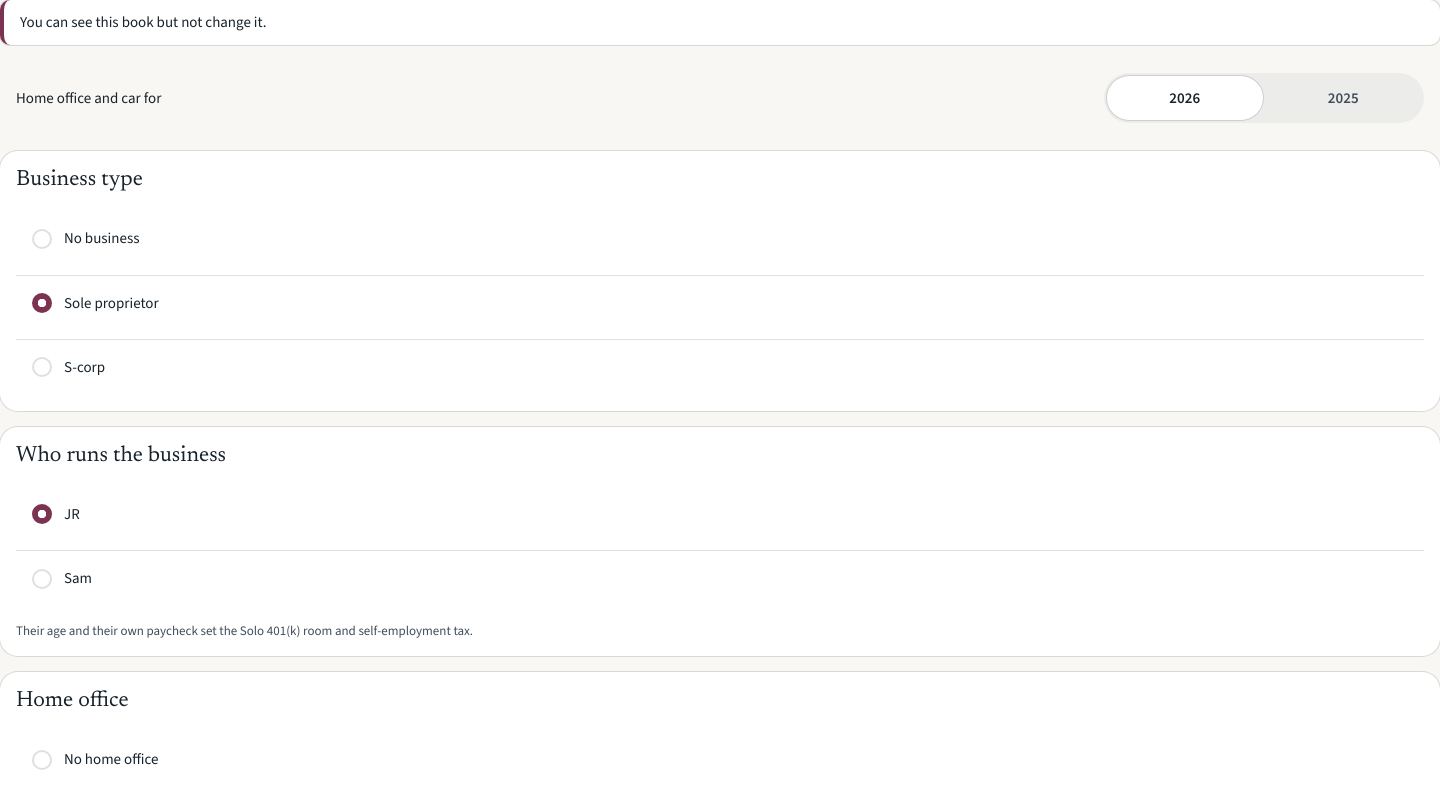
Test case: Settings, Business › lets a viewer look at last year, still read-only (final review N5)
The width and height of the screenshot is (1440, 797).
Step 1. Click the radio button labelled "2025" → (1343,98), box [1266,76,1421,120]
(page scrolled)
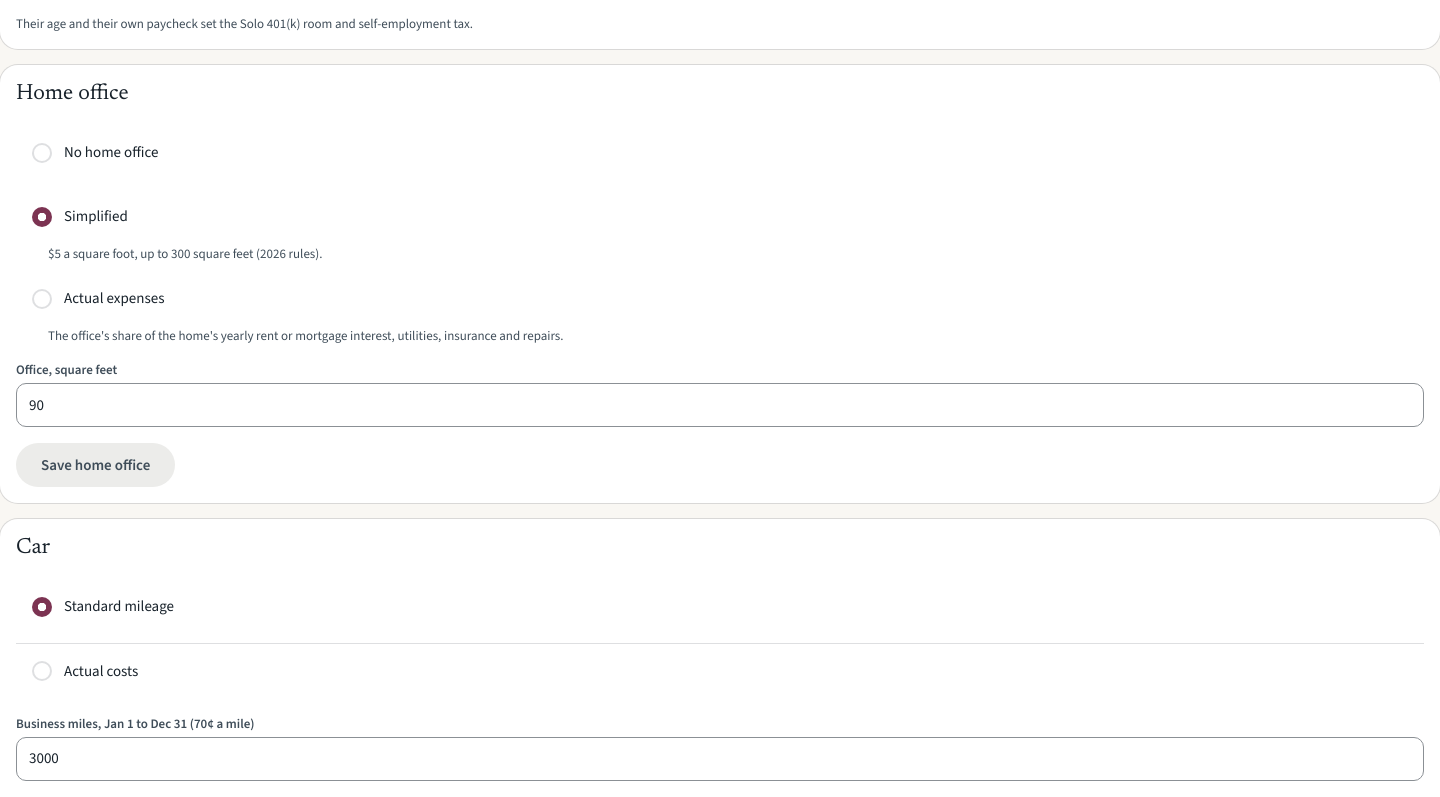
Check: the field labelled "Office, square feet" is disabled, box [16,383,1424,427]
Check: the field labelled "Business miles, Jan 1 to Dec 31 (70¢ a mile)" holds "3000", box [16,737,1424,781]
